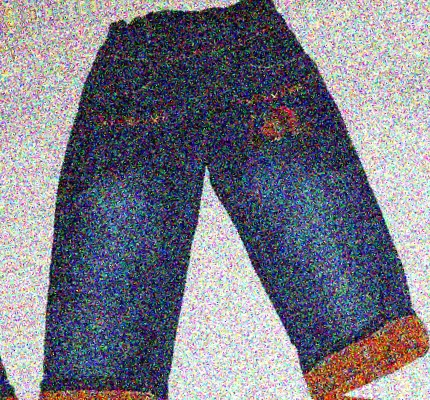Pants: (0, 0, 424, 400), (0, 41, 19, 400), (49, 385, 430, 400), (0, 0, 362, 5)
